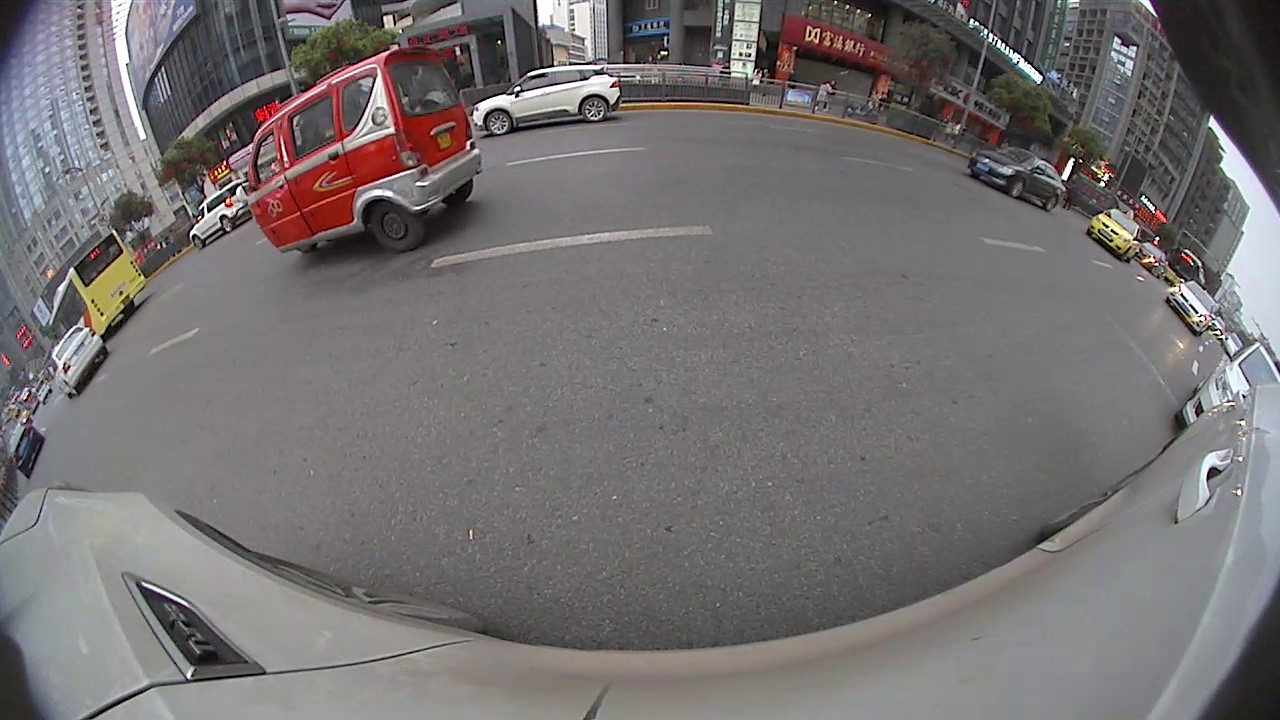bus: (44, 228, 153, 337)
car: (468, 62, 624, 137), (1176, 338, 1279, 435), (966, 143, 1068, 215), (44, 320, 112, 400), (188, 176, 252, 251), (1085, 206, 1143, 264), (1163, 278, 1219, 338)
front: (484, 110, 513, 138), (1009, 177, 1026, 201), (191, 235, 207, 252)
rear: (365, 198, 424, 255), (578, 95, 610, 125), (1041, 191, 1059, 214), (218, 216, 236, 236)
rider: (249, 48, 485, 254)
